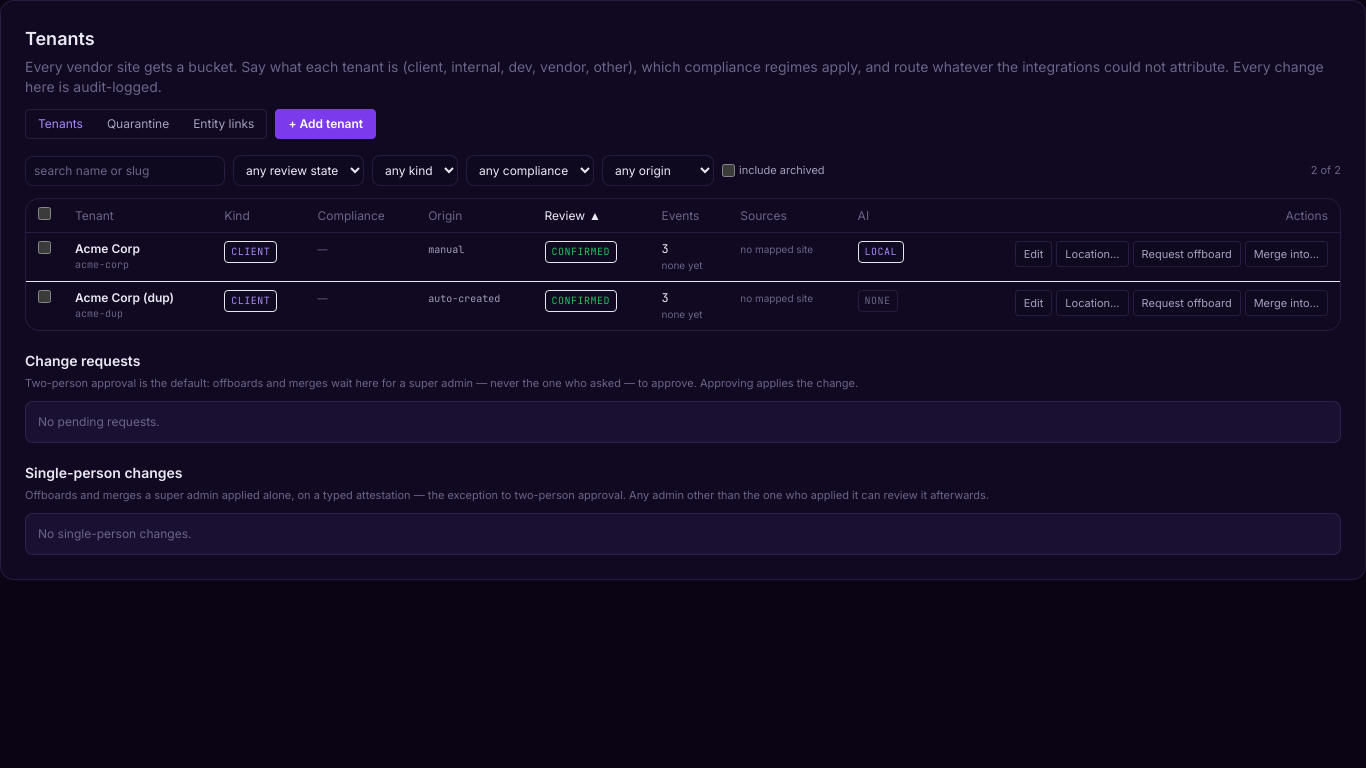
Test: merge dialog — the attested single-person exception › an admin sees the caveats but never the single-person choice
This screenshot has width=1366, height=768.
Click the button with test id "merge-acme-dup": [1286, 303] box [1245,290,1328,316]
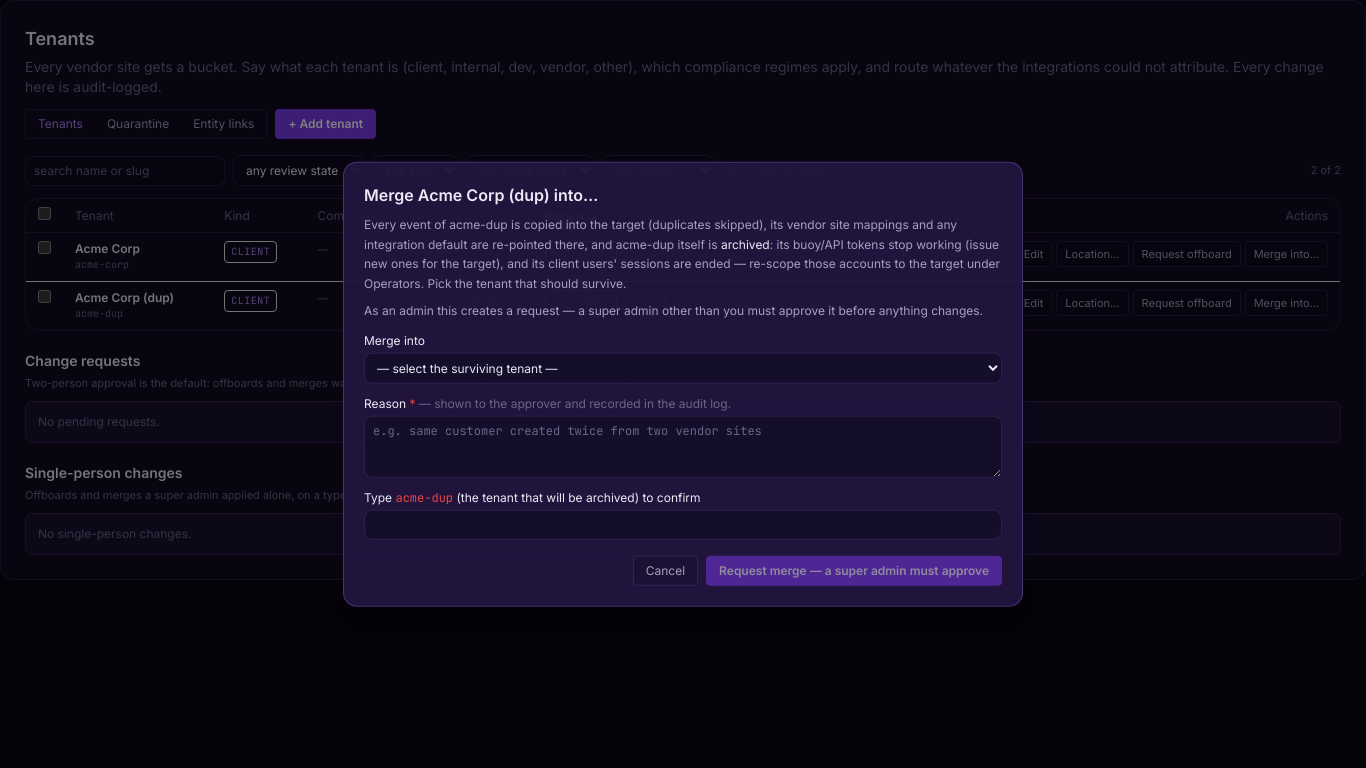
Select "Acme Corp (acme-corp) — 3 events" in the dropdown named "merge target": [683, 368] box [364,352,1002,383]
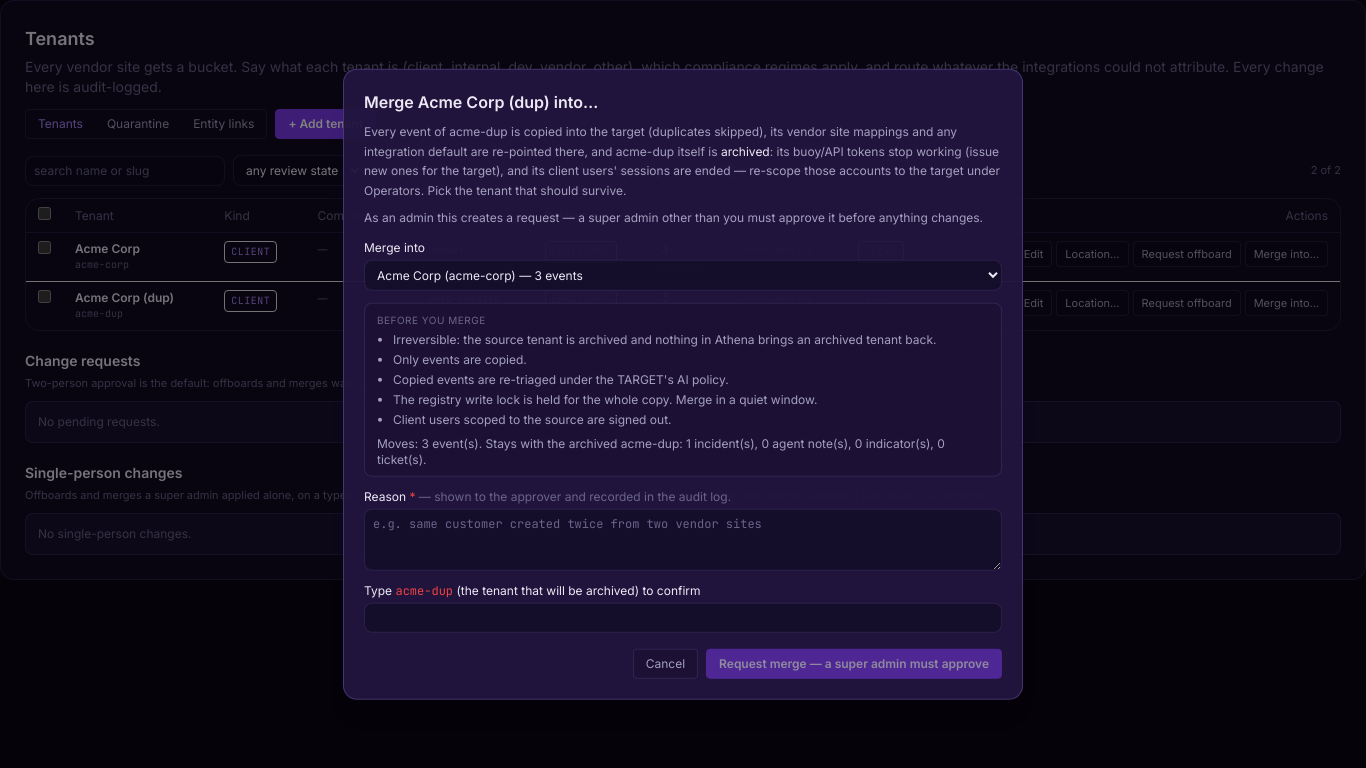
Now the button with test id "merge-submit" reads "Request merge — a super admin must approve", box [706,648,1002,678]
Now the element with test id "merge-caveats" is shown, box [364,302,1002,476]
Now the list item with test id "merge-caveat-write_lock" is shown, box [393,391,817,406]
